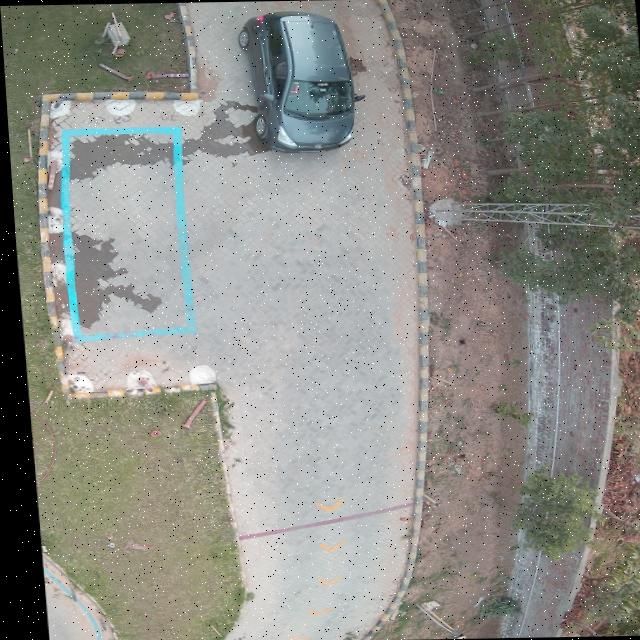car: (238, 10, 361, 153)
